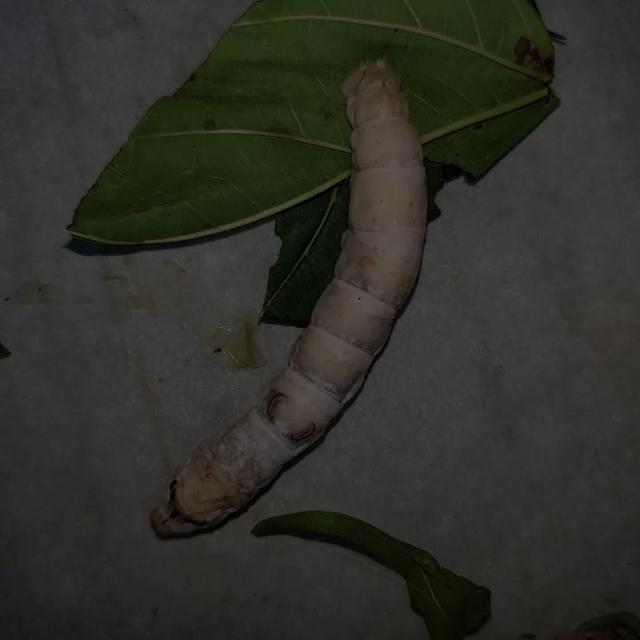Grasserie: (146, 52, 438, 540)
